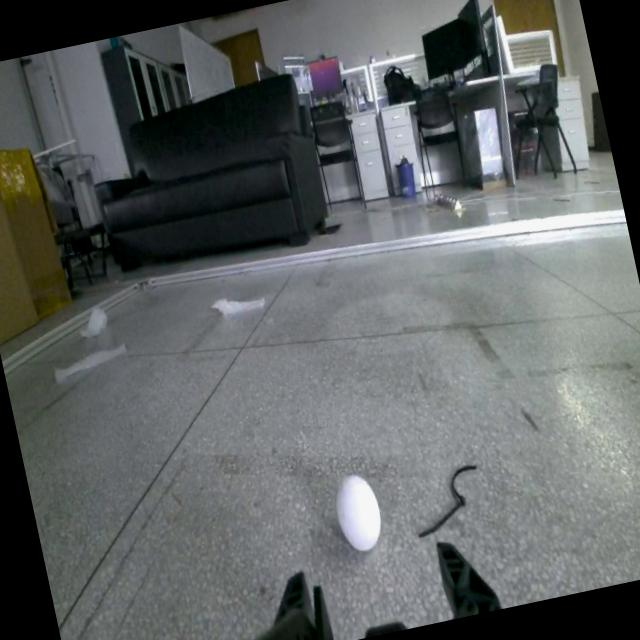ball1: (327, 470, 388, 560)
